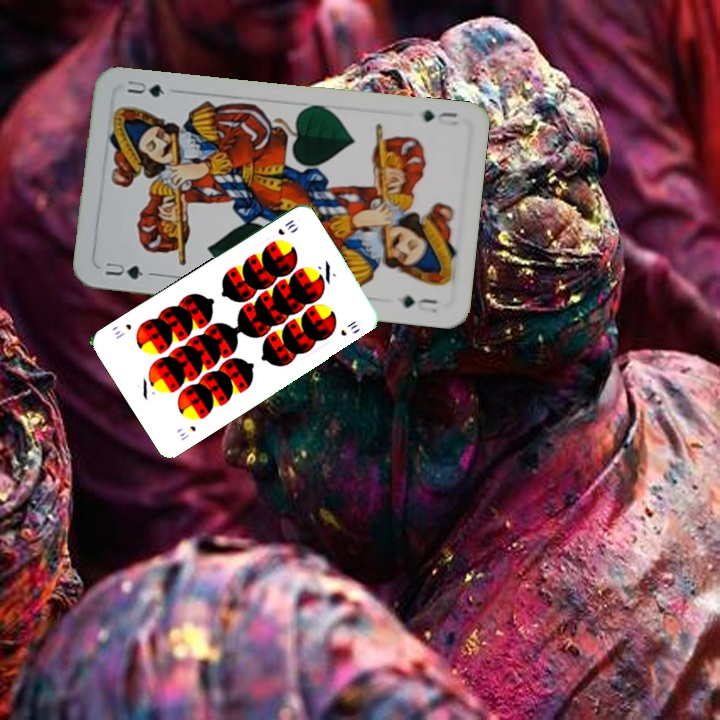GU: (101, 258, 146, 282), (418, 106, 462, 129)
S10: (274, 215, 298, 238), (175, 421, 198, 443)
